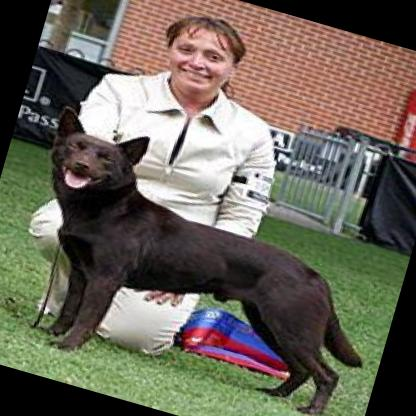kelpie: (0, 102, 408, 416)
